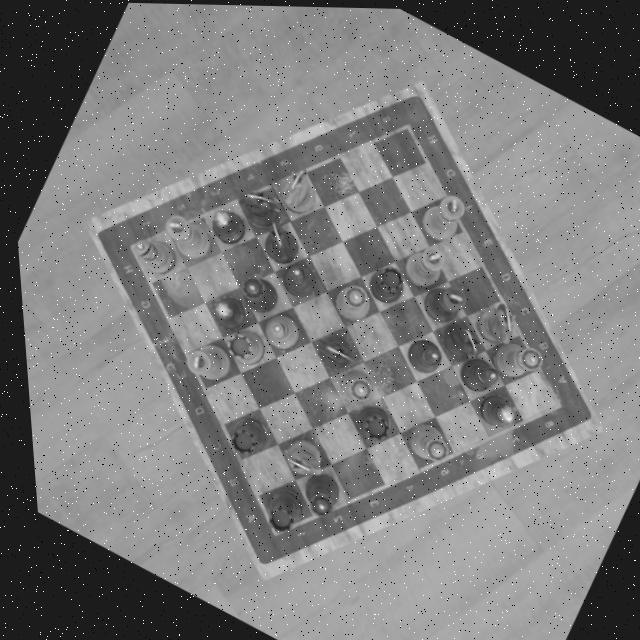chessboard: (127, 124, 552, 532)
